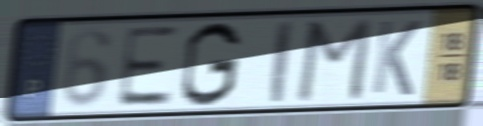6: (59, 24, 114, 111)
E: (113, 23, 181, 110)
G: (178, 19, 244, 110)
I: (269, 17, 295, 107)
K: (368, 18, 424, 99)
M: (292, 15, 375, 105)
